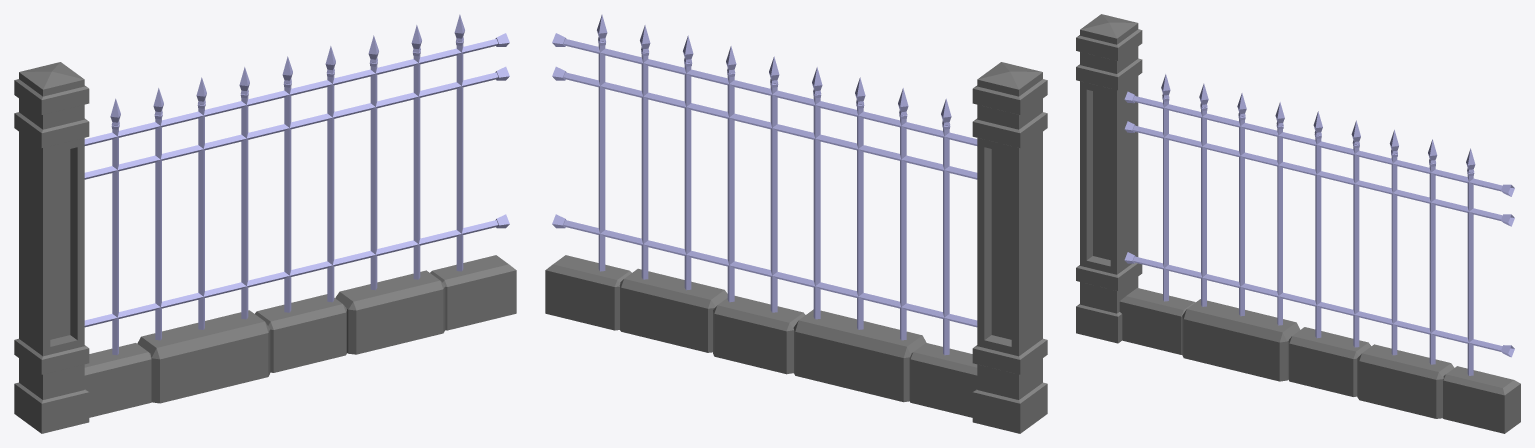
The model's file is SM_Fence_02.fbx.
3 renders of one model, left to right at view 1: azimuth 30°, elevation 25°; view 2: azimuth 150°, elevation 25°; view 3: azimuth 330°, elevation 25°, orthographic. The views are drawn at different scales.
Parts seen in each view (by area): view 1: Object007; view 2: Object007; view 3: Object007.
Part boxes in pixels (x1=…): Object007: x1=14, y1=14, x2=516, y2=433; Object007: x1=545, y1=14, x2=1047, y2=433; Object007: x1=1076, y1=14, x2=1520, y2=433.
Bounding box in the file's own units: 303 × 209 × 30.
